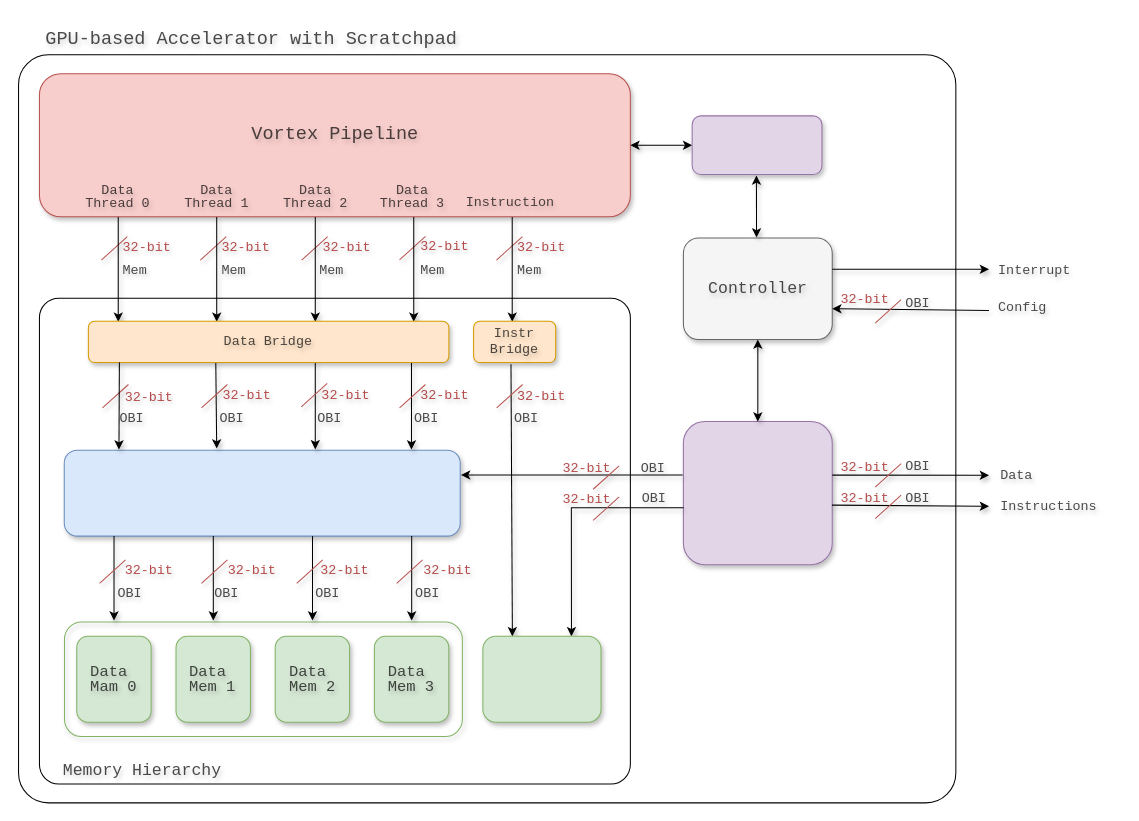
This 1139x821 diagram has some shape labels left out. The shapes that lost their labels are listed below. From the top down, each one's centre as x and y in pixels, then its label:
At (x=757, y=146): "Clock Gate Cell".
At (x=262, y=494): "Interleaved Bus".
At (x=758, y=494): "DMA".
At (x=542, y=680): "Instr Mem".
